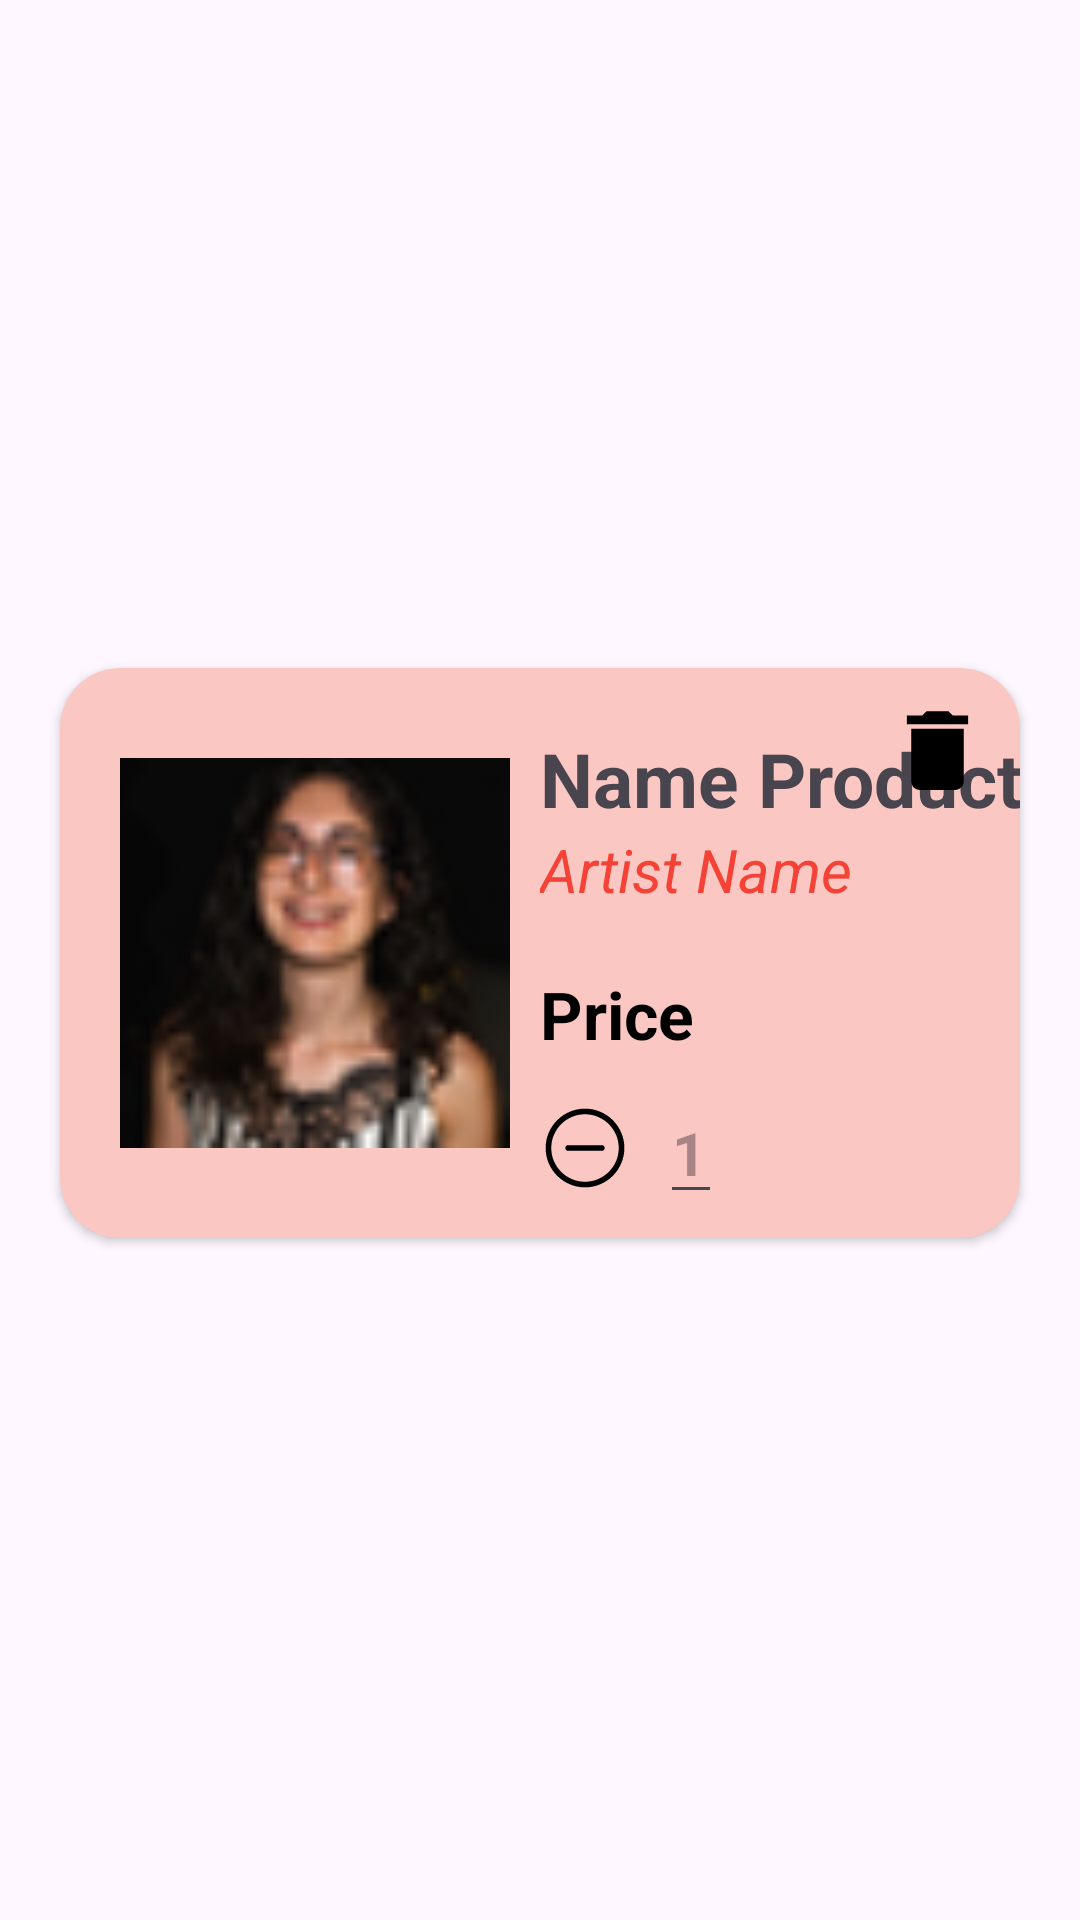

Screen size 1080x1920. Icon name, then its box in pixels as BBox(x1, y1, x2, y2):
delete: BBox(885, 711, 990, 803)
remove: BBox(545, 1108, 625, 1188)
